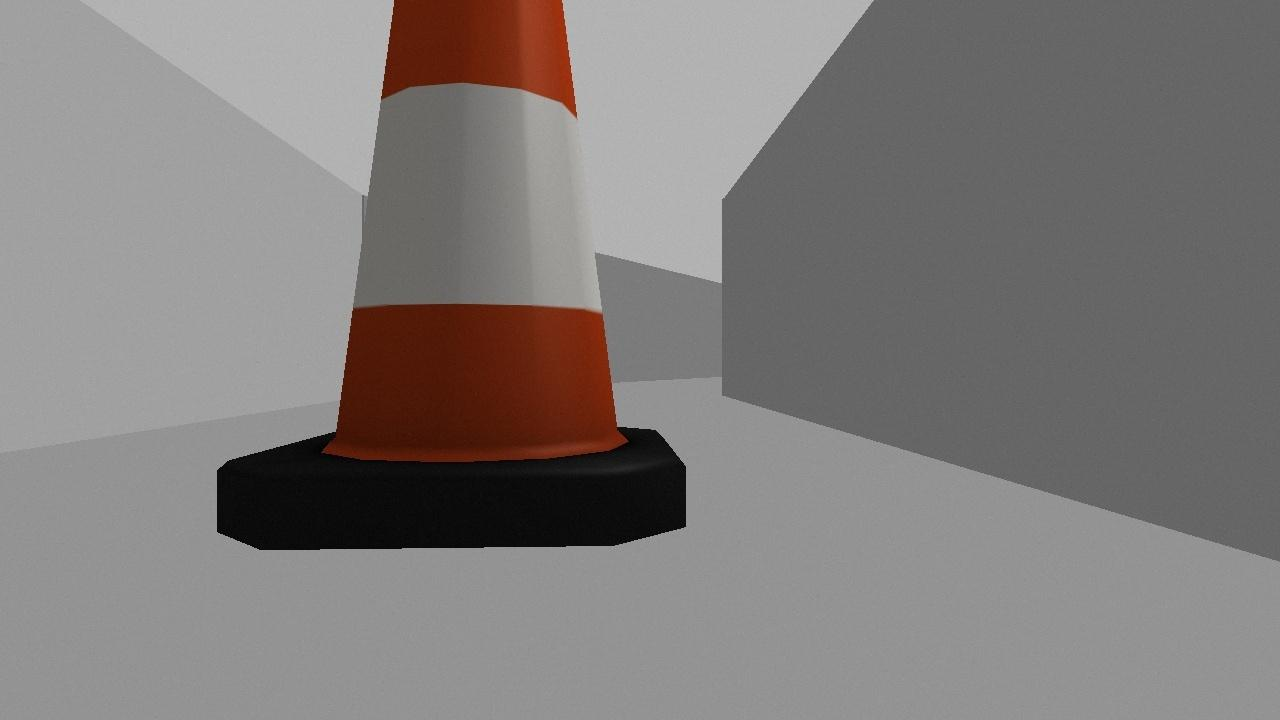cone_barrel: (188, 0, 715, 560)
